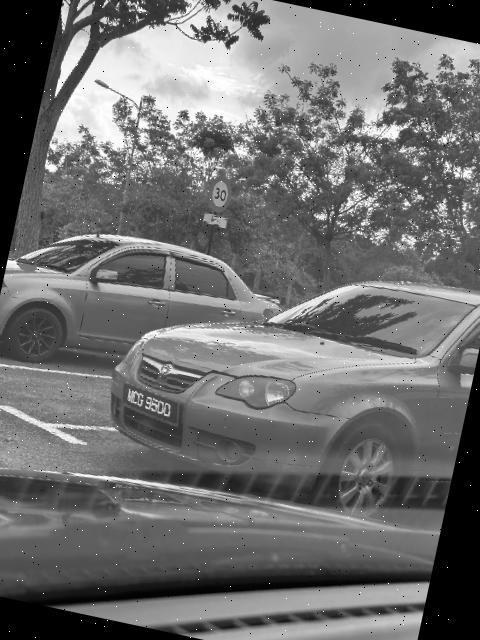License_Plate: (113, 379, 189, 431)
MCG9500: (113, 379, 189, 431)
car: (99, 226, 480, 532), (1, 205, 288, 415)
